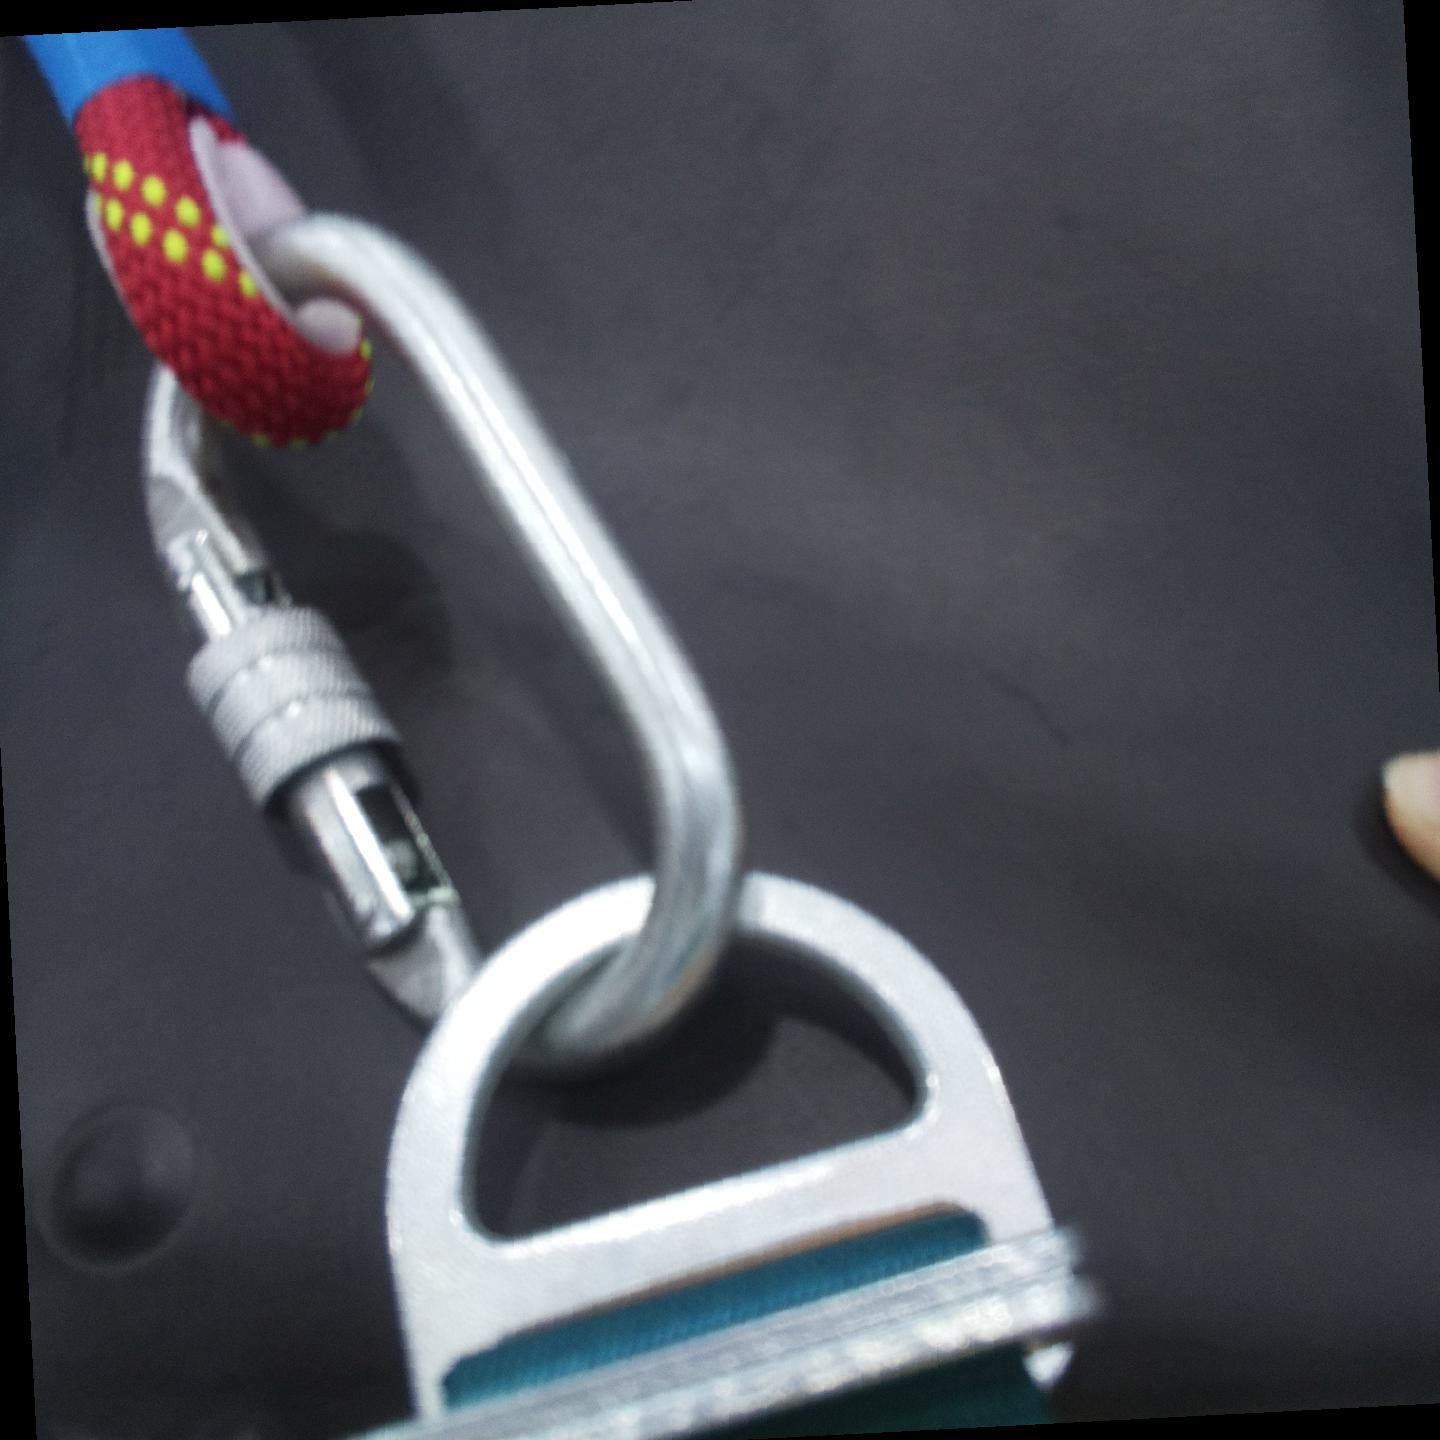SUCCESS: (189, 622, 1091, 1367)
